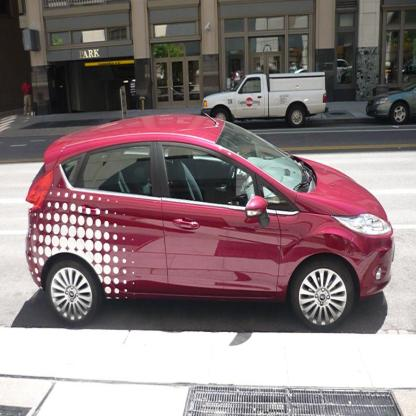Car: (26, 88, 396, 334), (368, 80, 416, 124)
